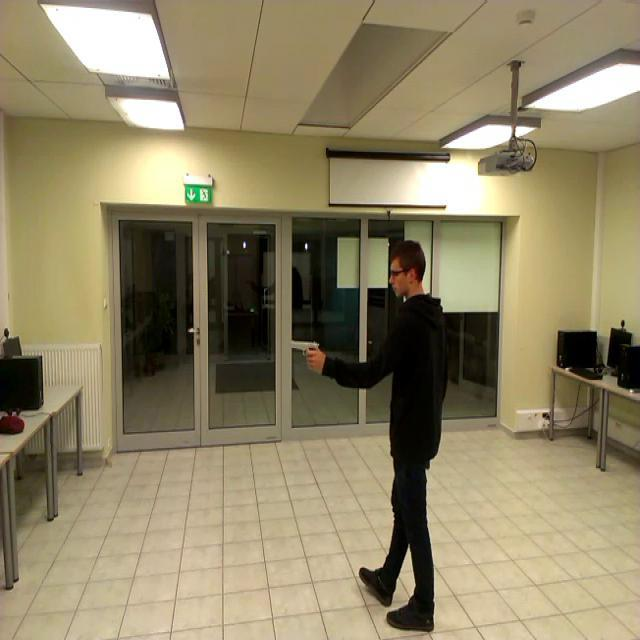Gun: (292, 340, 321, 364)
